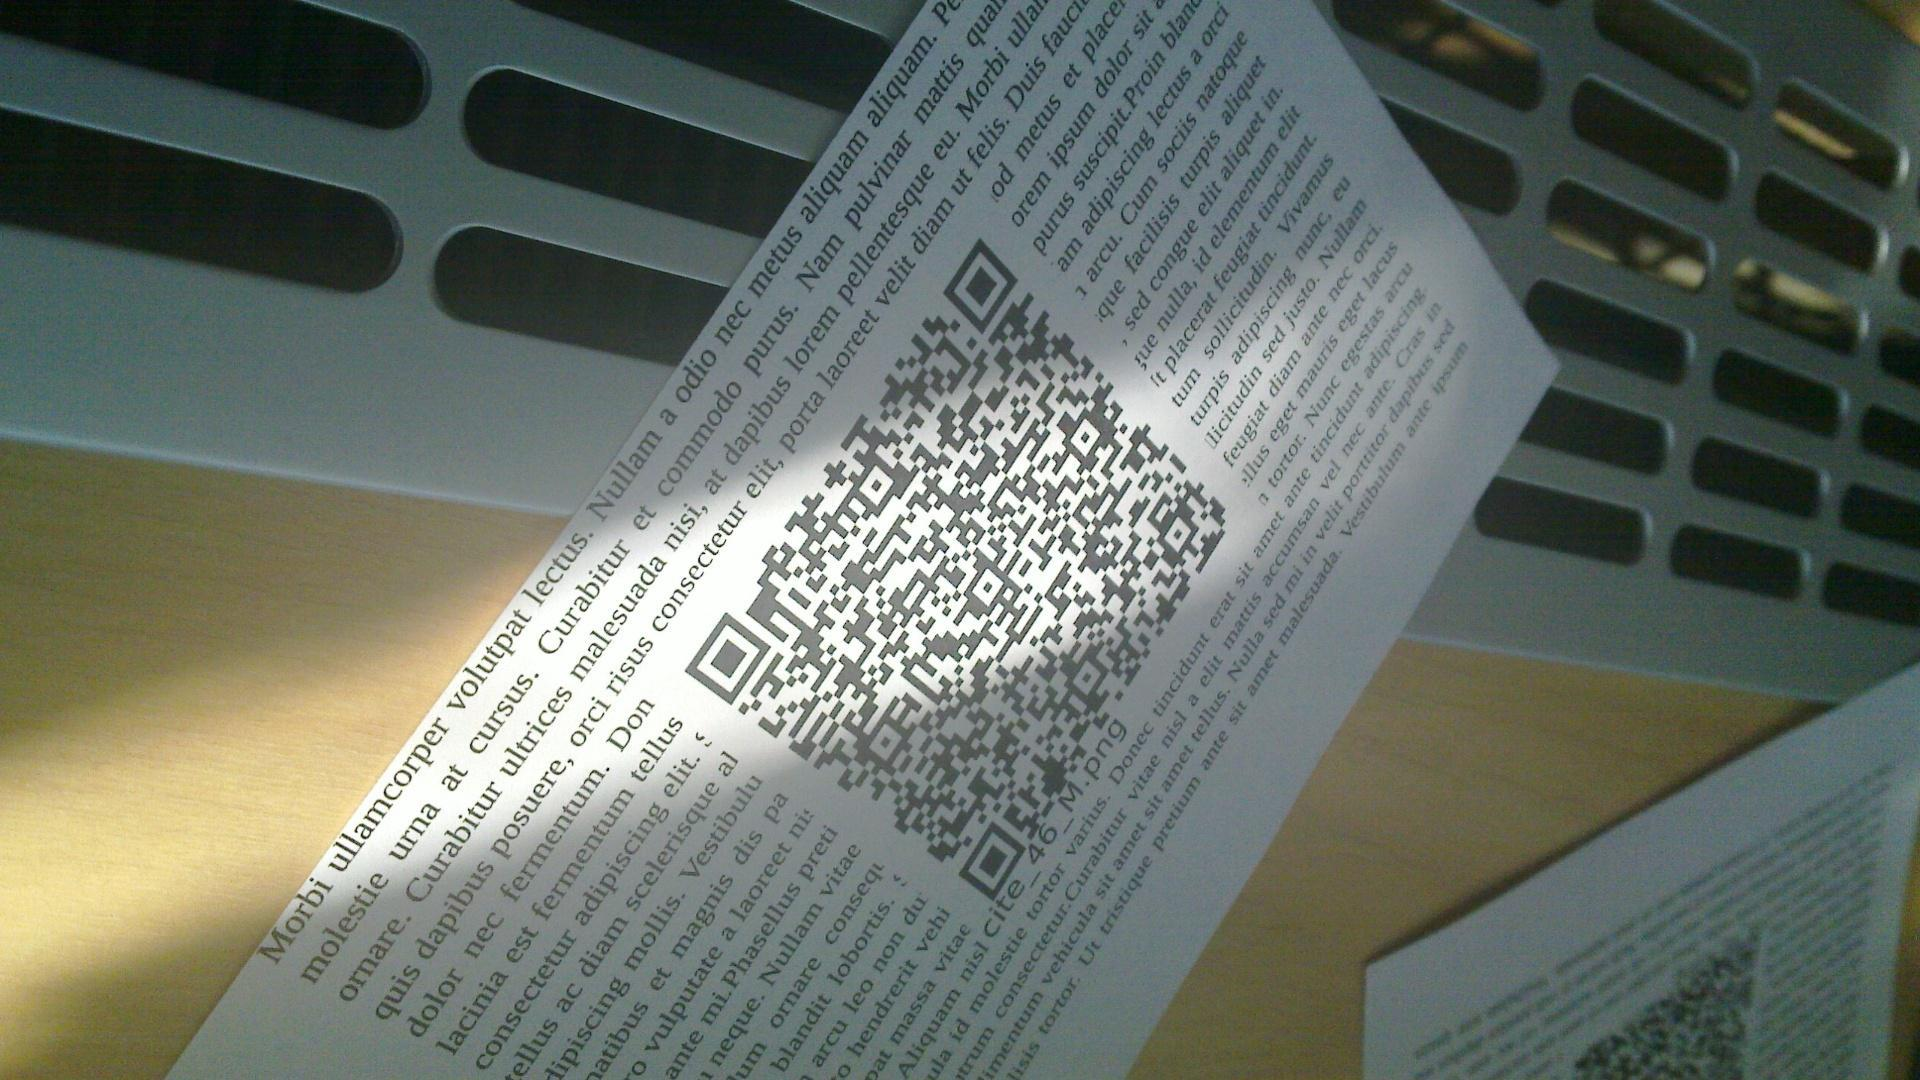Finder pattern: (945, 236, 1022, 330), (688, 615, 766, 703), (959, 818, 1025, 899)
